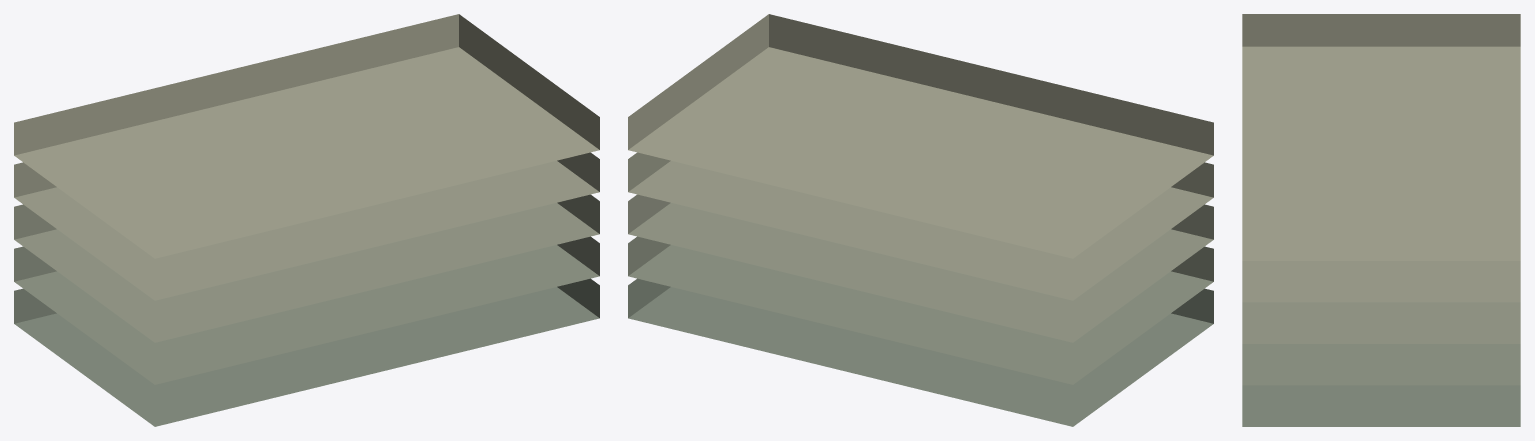
File: luxury-demo.glb
The picture shows the model from 3 angles, left to right: view 1: azimuth 30°, elevation 25°; view 2: azimuth 150°, elevation 25°; view 3: azimuth 270°, elevation 25°; orthographic projection.
Visible parts, largest first — view 1: layer-support, layer-responsive, layer-cover, layer-latex, layer-comfort; view 2: layer-support, layer-responsive, layer-cover, layer-latex, layer-comfort; view 3: layer-support, layer-cover, layer-comfort, layer-responsive, layer-latex.
Boxes of the visible parts, x1=… form: layer-support: x1=14, y1=14, x2=599, y2=258; layer-responsive: x1=14, y1=194, x2=599, y2=342; layer-cover: x1=14, y1=278, x2=599, y2=426; layer-latex: x1=14, y1=152, x2=599, y2=300; layer-comfort: x1=14, y1=236, x2=599, y2=384; layer-support: x1=628, y1=14, x2=1213, y2=258; layer-responsive: x1=628, y1=194, x2=1213, y2=342; layer-cover: x1=628, y1=278, x2=1213, y2=426; layer-latex: x1=628, y1=152, x2=1213, y2=300; layer-comfort: x1=628, y1=236, x2=1213, y2=384; layer-support: x1=1242, y1=14, x2=1520, y2=260; layer-cover: x1=1242, y1=385, x2=1520, y2=426; layer-comfort: x1=1242, y1=344, x2=1520, y2=385; layer-responsive: x1=1242, y1=302, x2=1520, y2=343; layer-latex: x1=1242, y1=261, x2=1520, y2=302.
Bounding box in the file's own units: 3.1 × 1.34 × 1.7.
